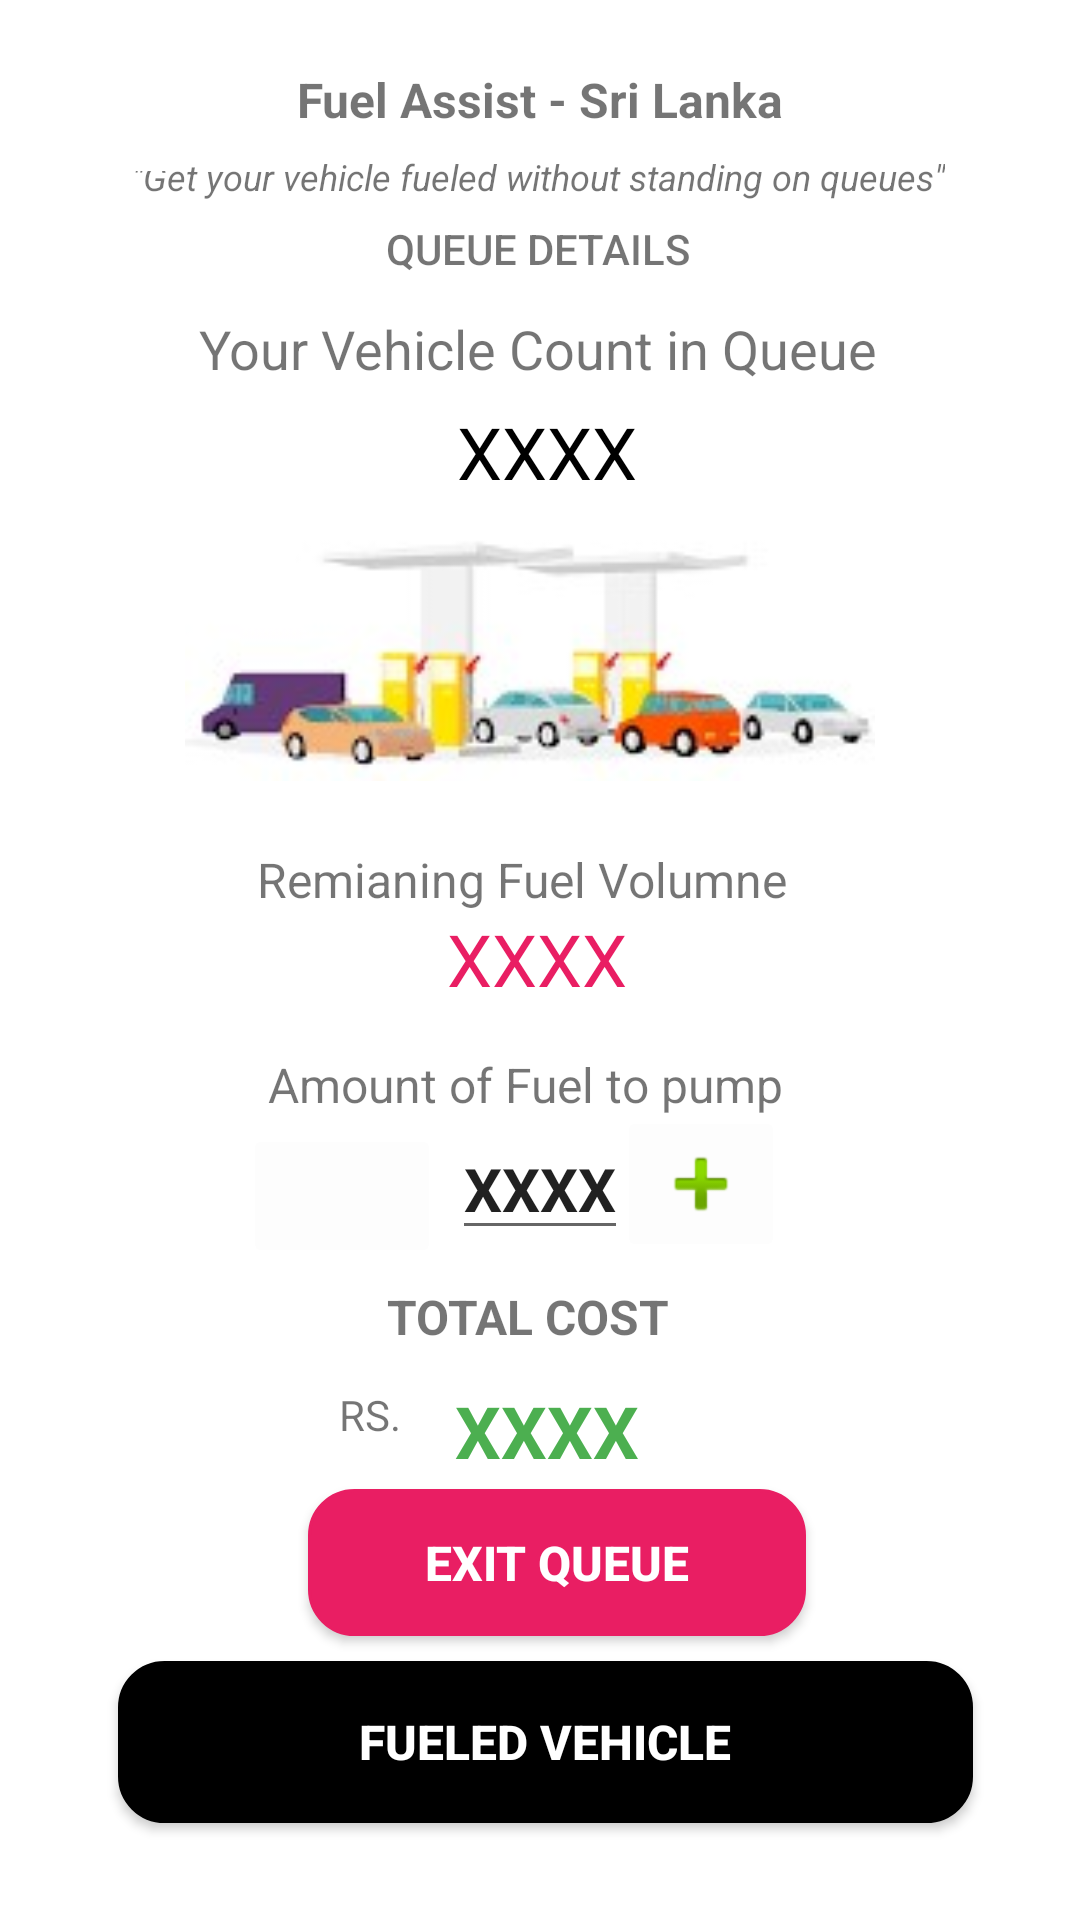

Where icons sit on this 1080 × 1920 app screen, as [x1, y1, x2, y2]:
add: [674, 1157, 728, 1211]
